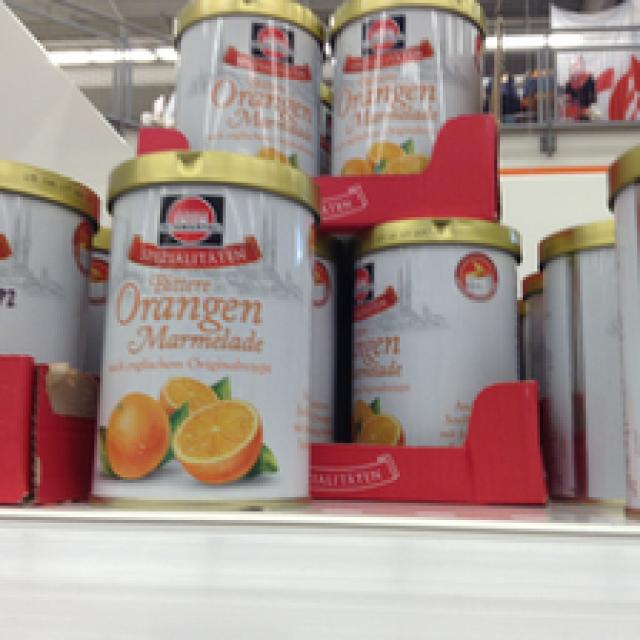groceries: (92, 146, 314, 508), (346, 214, 523, 446), (326, 0, 483, 171), (166, 0, 317, 169)
